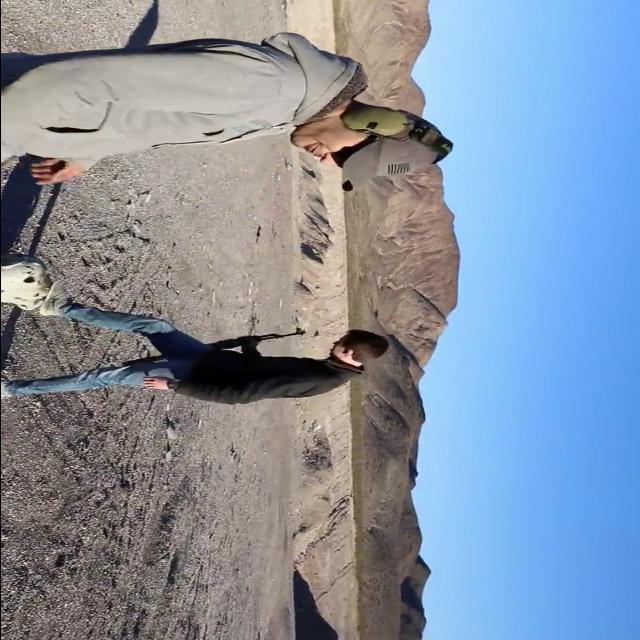long weapon: (124, 324, 318, 370)
